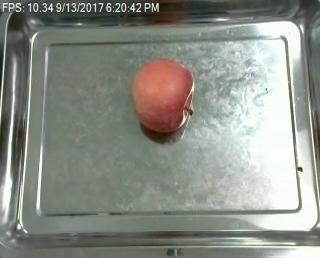apple: (131, 58, 195, 133)
